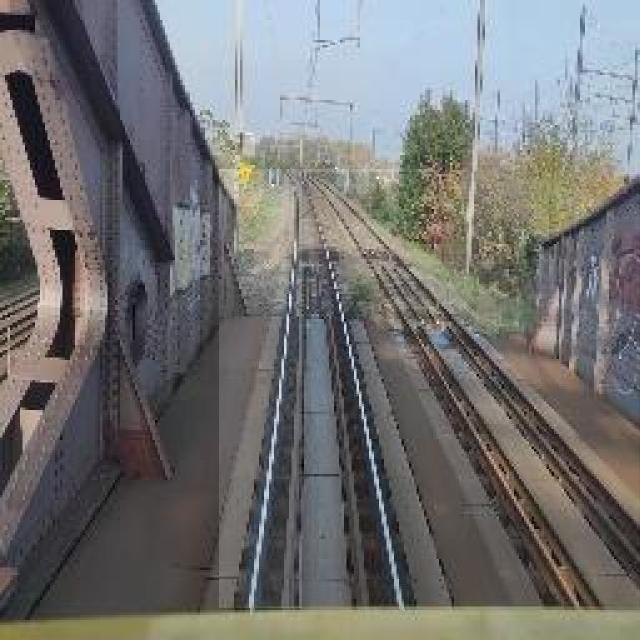rail: (304, 174, 640, 610), (221, 171, 434, 609)
